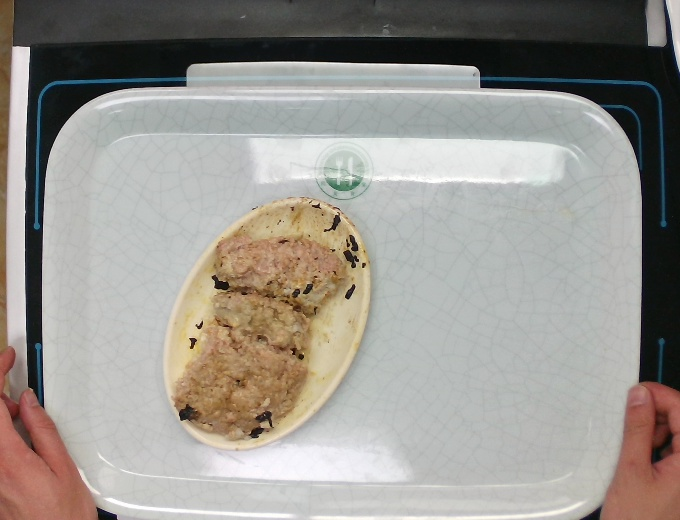JYsf-Tuo_Yuan_Wan: (158, 190, 376, 455)
